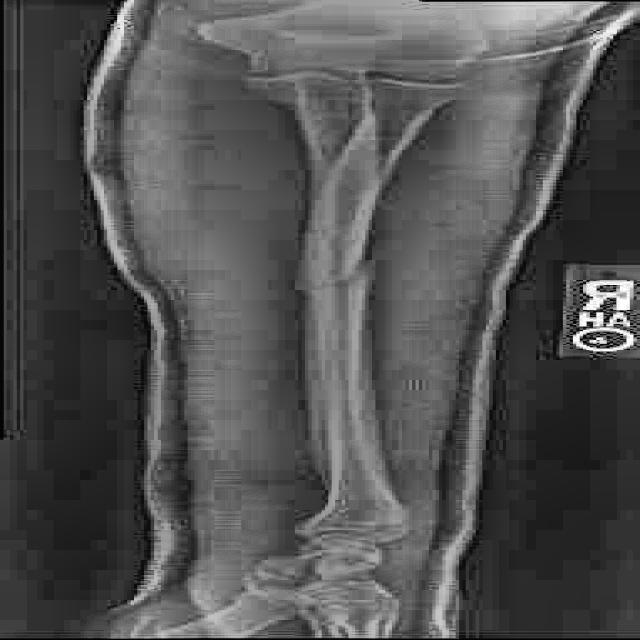forearm fracture: (259, 237, 447, 349)
